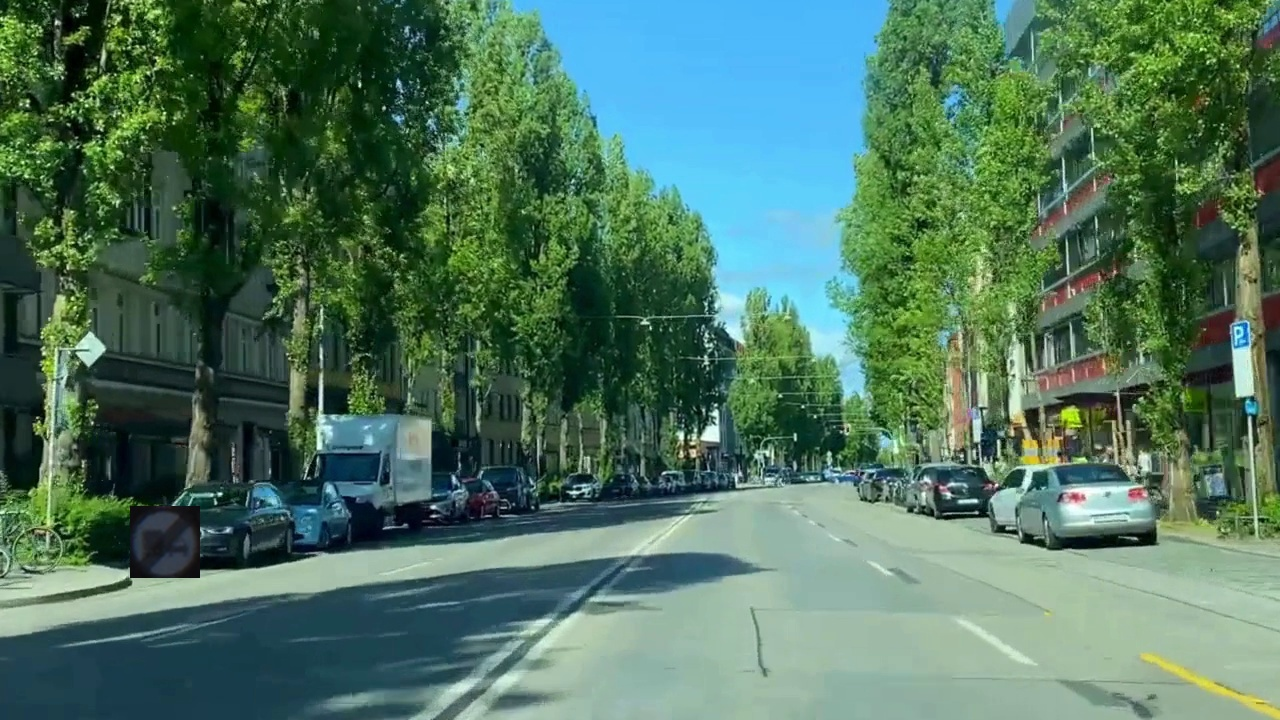End no pass >3.5t: (130, 506, 200, 578)
